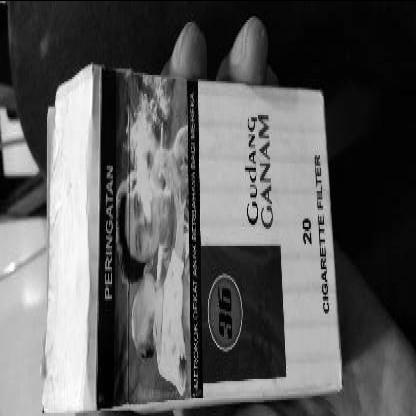objects: (96, 68, 342, 410)
